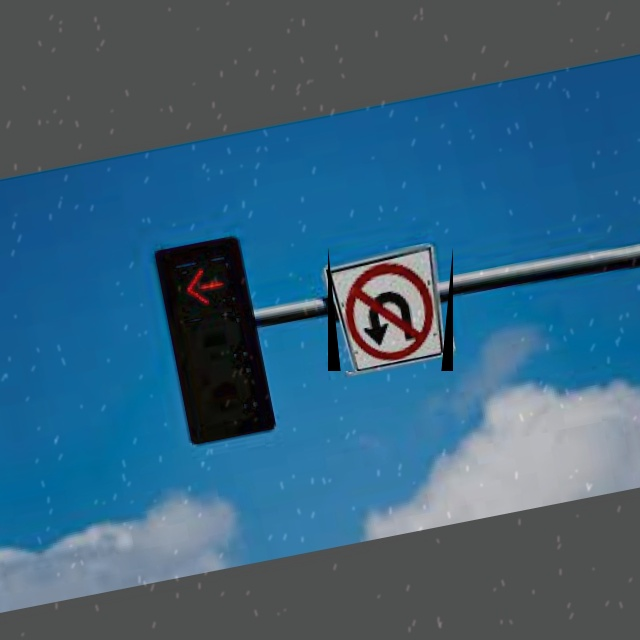U_Turn_Prohibited: (328, 247, 453, 371)
